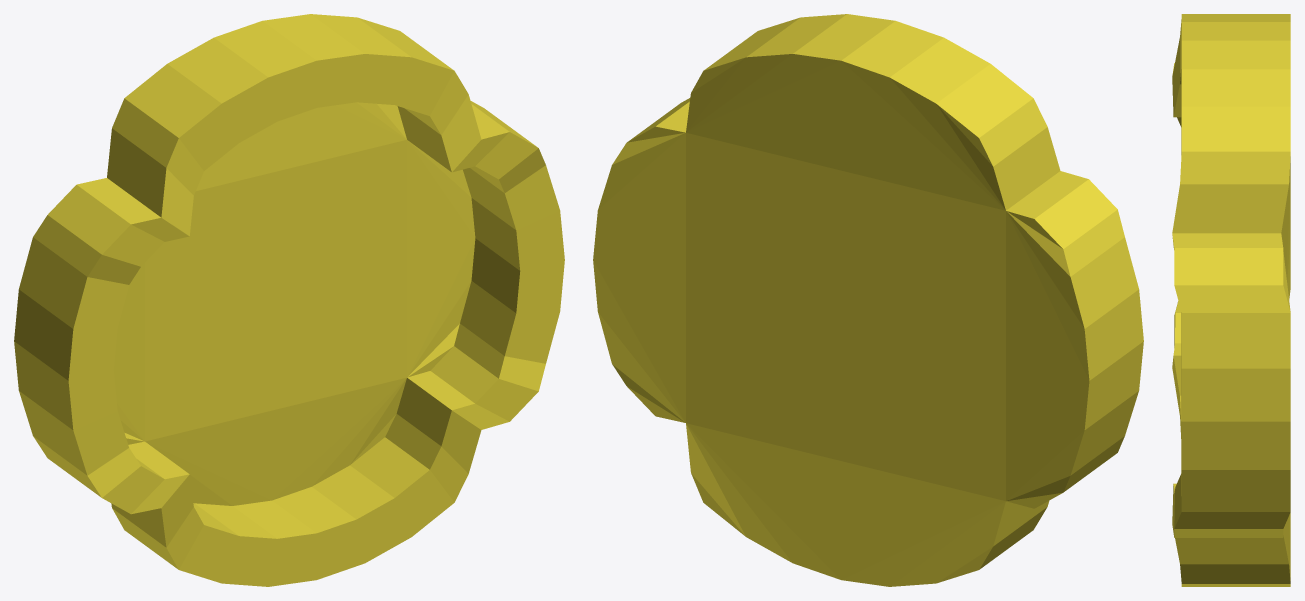
Rendered from JanelaFloral.fbx.
3 views of the same model, side by side, from view 1: azimuth 30°, elevation 25°; view 2: azimuth 150°, elevation 25°; view 3: azimuth 270°, elevation 25° (orthographic).
Parts seen in each view (by area): view 1: JanelaFloral; view 2: JanelaFloral; view 3: JanelaFloral.
Boxes of the visible parts, x1,y1,x2,y2 form: JanelaFloral: (14,14,564,586); JanelaFloral: (593,14,1143,586); JanelaFloral: (1172,14,1290,586).
Bounding box in the file's own units: 60.08 × 60.08 × 12.41.
